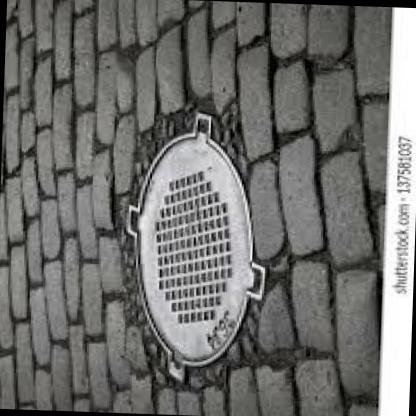manholes: (101, 75, 309, 396)
